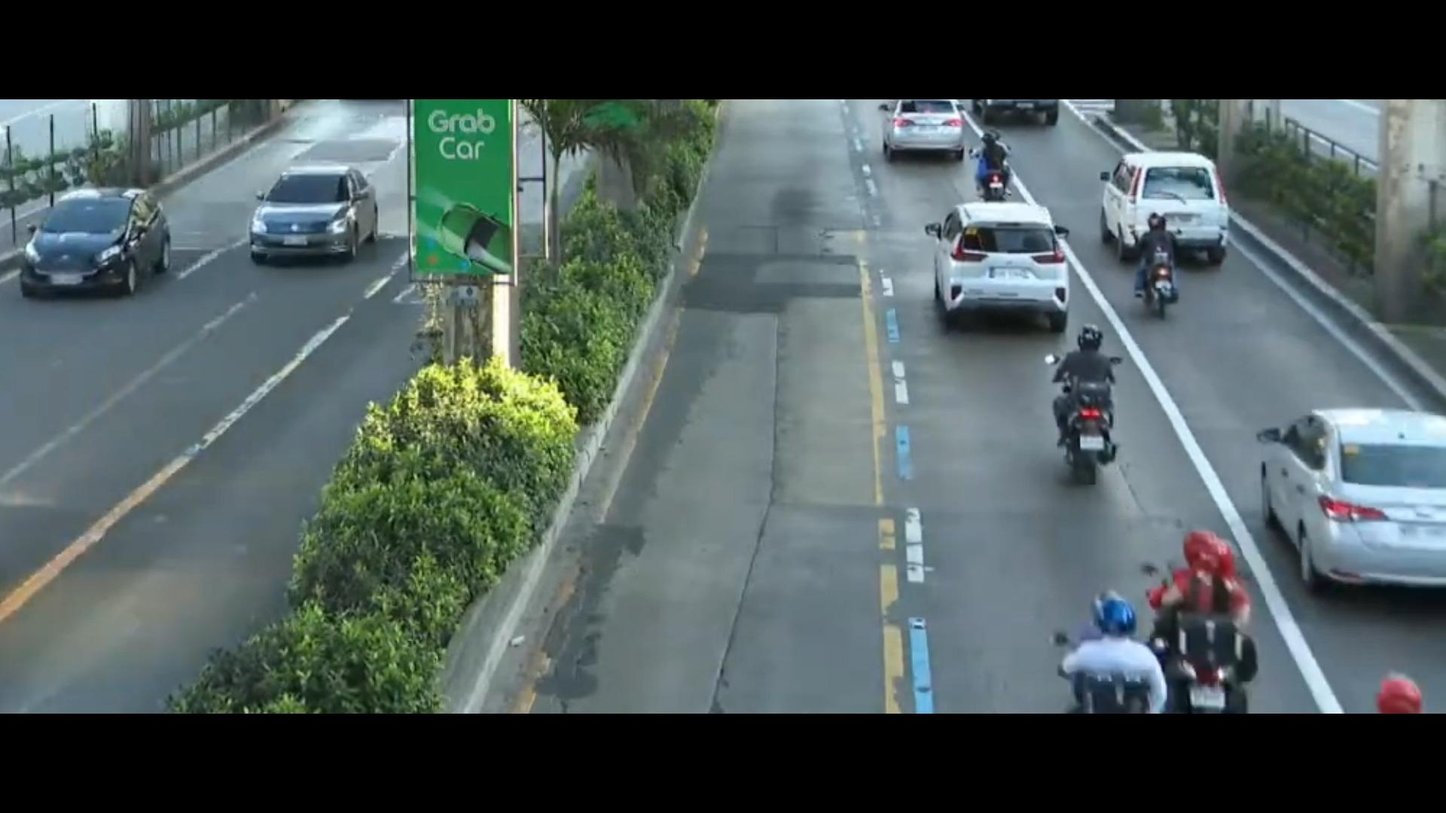Motorcycle: (1158, 512, 1286, 709), (1043, 319, 1138, 493), (1055, 583, 1180, 699), (1118, 214, 1216, 340), (961, 113, 1025, 200)
SUV: (893, 196, 1095, 350), (17, 171, 189, 310), (887, 103, 965, 163)
Sedan: (1256, 379, 1446, 625), (240, 154, 392, 262)
Van: (1100, 141, 1226, 270)
